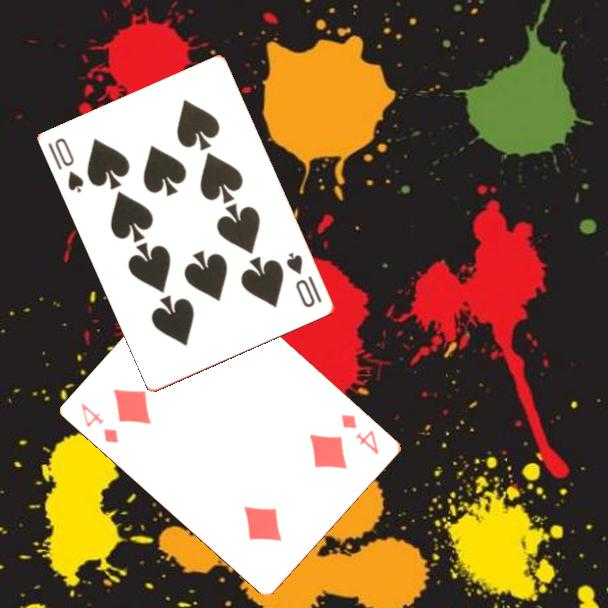d04: (338, 410, 382, 458), (78, 399, 122, 446)
s10: (283, 249, 325, 311), (45, 134, 87, 196)
